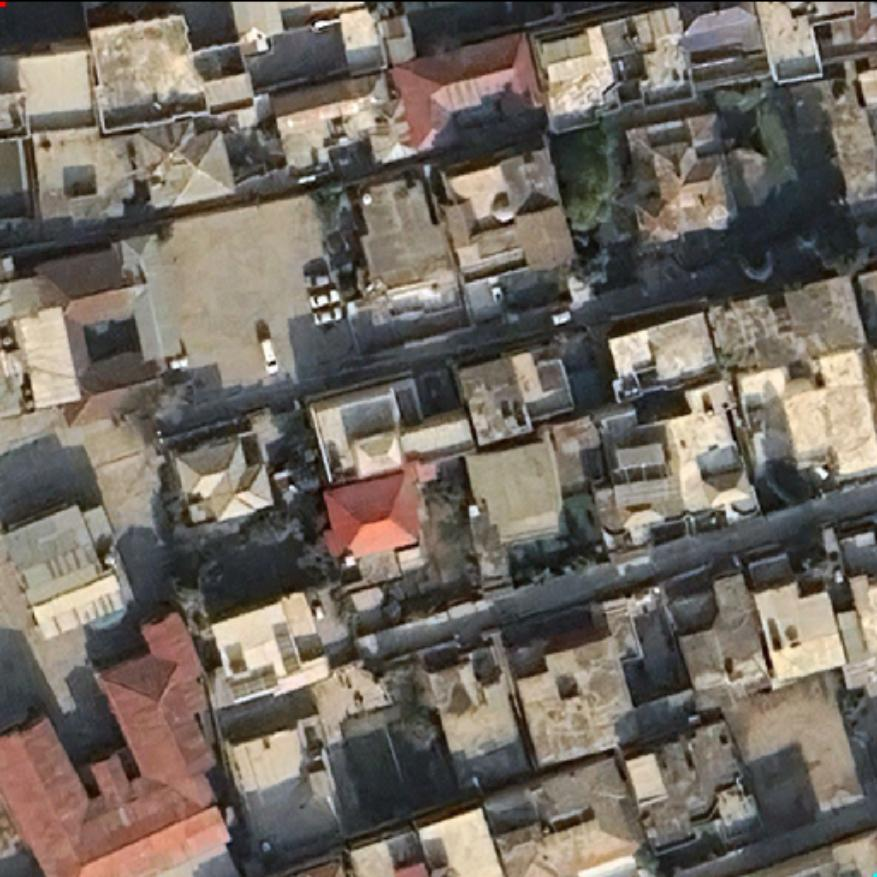Solarpanel: (265, 618, 303, 675), (221, 666, 275, 702)
